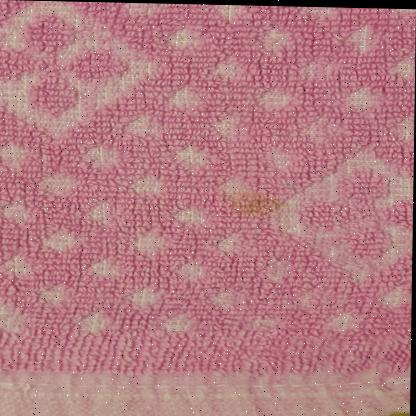spot: (227, 184, 287, 219)
